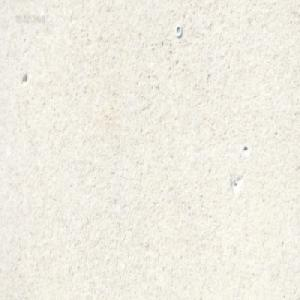Washer: (174, 23, 182, 37)
